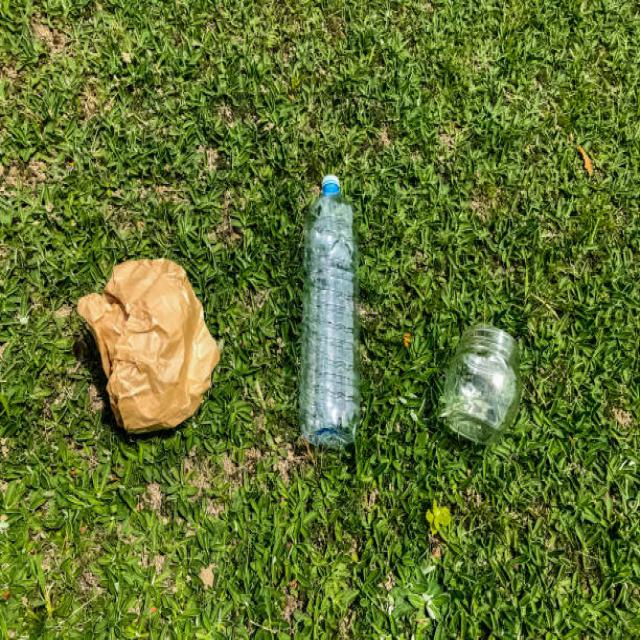glass: (433, 322, 524, 439)
paper: (71, 257, 223, 431)
plastic: (293, 169, 357, 445)
